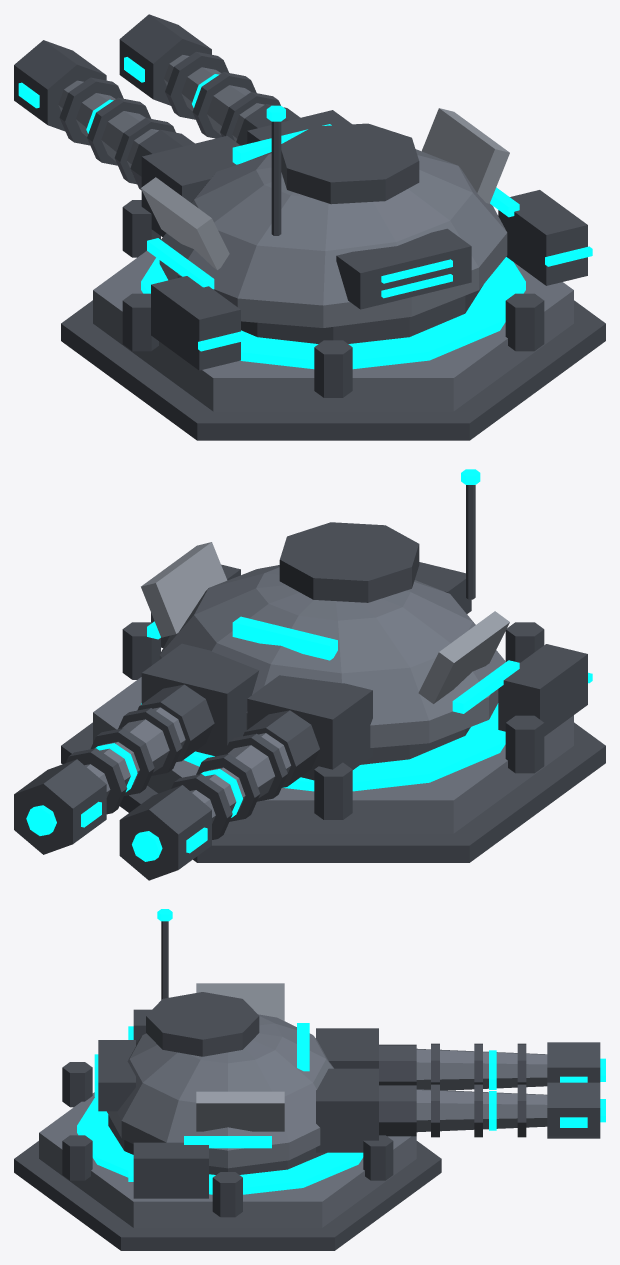
Rendered from turret_lvl3.glb.
The picture shows the model from 3 angles, top to bottom: view 1: azimuth 30°, elevation 25°; view 2: azimuth 150°, elevation 25°; view 3: azimuth 270°, elevation 25°; orthographic projection. The views are drawn at different scales.
Parts seen in each view (by area): view 1: Dome_05, Base_01, BaseSkirt_02, Cupola_49, Neon_BaseRing_03, BackVent_32, SaddleBag_45, SaddleBag_47, Pivot_04, ArmorPlate_36, MuzzleBrake_25, MuzzleBrake_14 (+22 smaller); view 2: Dome_05, Base_01, BaseSkirt_02, Cupola_49, BarrelMount_07, BarrelMount_18, SaddleBag_45, MuzzleBrake_14, MuzzleBrake_25, Neon_BaseRing_03, ArmorPlate_36, ArmorPlate_35 (+21 smaller); view 3: Dome_05, Base_01, BaseSkirt_02, Cupola_49, BarrelMount_18, Neon_BaseRing_03, SaddleBag_47, BarrelTube_20, BarrelTube_09, ArmorPlate_36, MuzzleBrake_25, BackVent_32 (+16 smaller).
Boxes of the visible parts, box(x1,y1,x2,y2) form: Dome_05: box(159, 149, 507, 327); Base_01: box(93, 251, 573, 411); BaseSkirt_02: box(61, 300, 605, 440); Cupola_49: box(281, 123, 419, 204); Neon_BaseRing_03: box(141, 257, 525, 369); BackVent_32: box(336, 228, 471, 309); SaddleBag_45: box(151, 276, 240, 370); SaddleBag_47: box(498, 190, 587, 285); Pivot_04: box(241, 285, 483, 343); ArmorPlate_36: box(422, 108, 509, 203); MuzzleBrake_25: box(119, 14, 211, 105); MuzzleBrake_14: box(14, 40, 106, 131); Dome_05: box(159, 565, 505, 747); Base_01: box(93, 677, 573, 833); BaseSkirt_02: box(61, 722, 605, 862); Cupola_49: box(279, 522, 419, 602); BarrelMount_07: box(247, 675, 372, 780); BarrelMount_18: box(141, 643, 259, 756); SaddleBag_45: box(498, 644, 587, 736); MuzzleBrake_14: box(119, 785, 211, 880); MuzzleBrake_25: box(14, 759, 106, 854); Neon_BaseRing_03: box(141, 703, 505, 791); ArmorPlate_36: box(141, 542, 227, 637); ArmorPlate_35: box(418, 611, 509, 703); Dome_05: box(107, 1014, 333, 1168); Base_01: box(39, 1092, 416, 1227); BaseSkirt_02: box(14, 1141, 441, 1250); Cupola_49: box(146, 992, 259, 1056); BarrelMount_18: box(316, 1068, 378, 1152); Neon_BaseRing_03: box(77, 1097, 363, 1194); SaddleBag_47: box(133, 1142, 208, 1198); BarrelTube_20: box(416, 1089, 547, 1132); BarrelTube_09: box(416, 1048, 547, 1090); ArmorPlate_36: box(196, 1091, 284, 1131); MuzzleBrake_25: box(547, 1082, 600, 1138); BackVent_32: box(98, 1040, 135, 1111).
Size of the model in its own units: 3.12 by 2.06 by 4.94.
